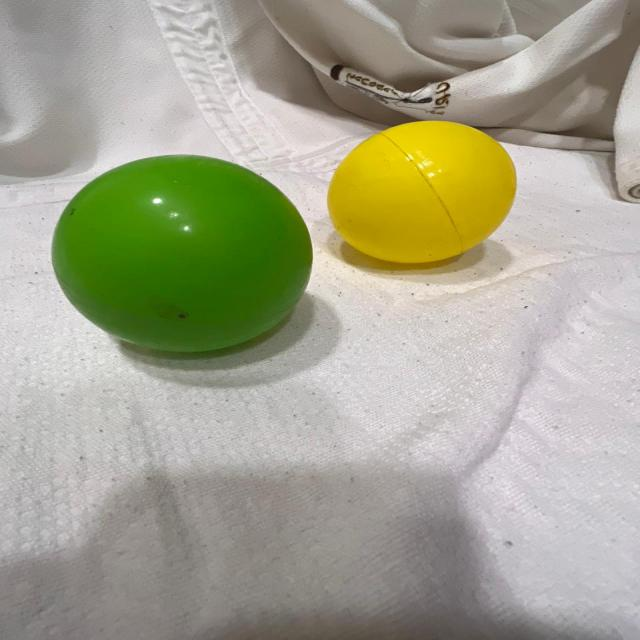ball: (49, 152, 313, 355), (323, 118, 520, 265)
